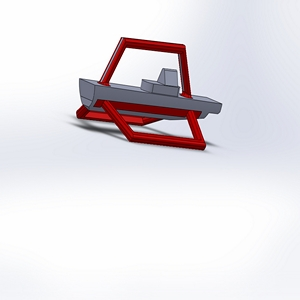submarine: (63, 20, 232, 171)
